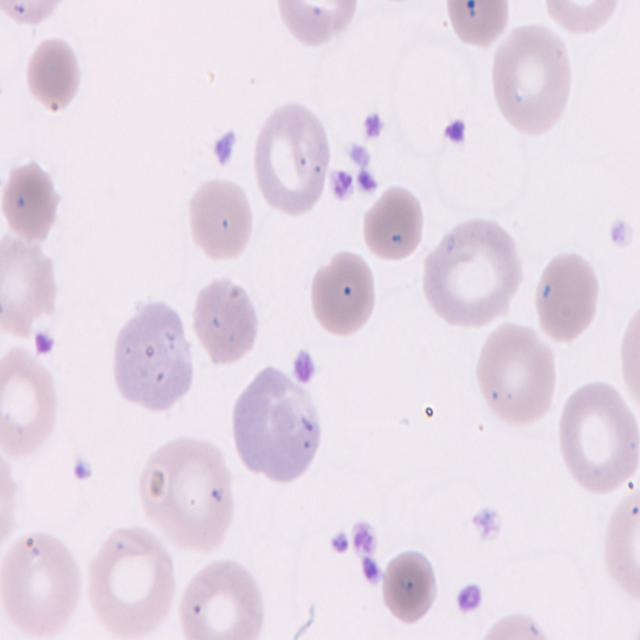RBC: (422, 215, 528, 334), (141, 434, 237, 556), (82, 524, 182, 634), (250, 98, 340, 218), (488, 21, 578, 138), (554, 380, 640, 494), (474, 320, 559, 430), (1, 528, 88, 632), (176, 558, 270, 640), (530, 245, 604, 346), (0, 344, 63, 459), (186, 172, 260, 262), (194, 276, 264, 371), (0, 226, 59, 334), (2, 165, 63, 251), (600, 489, 640, 614), (274, 0, 360, 43), (615, 278, 640, 424), (536, 0, 626, 39), (445, 0, 512, 47)
Spherocyte: (306, 248, 380, 340), (363, 181, 427, 265), (382, 550, 436, 624), (26, 38, 80, 110)
WBC: (108, 296, 202, 424)
